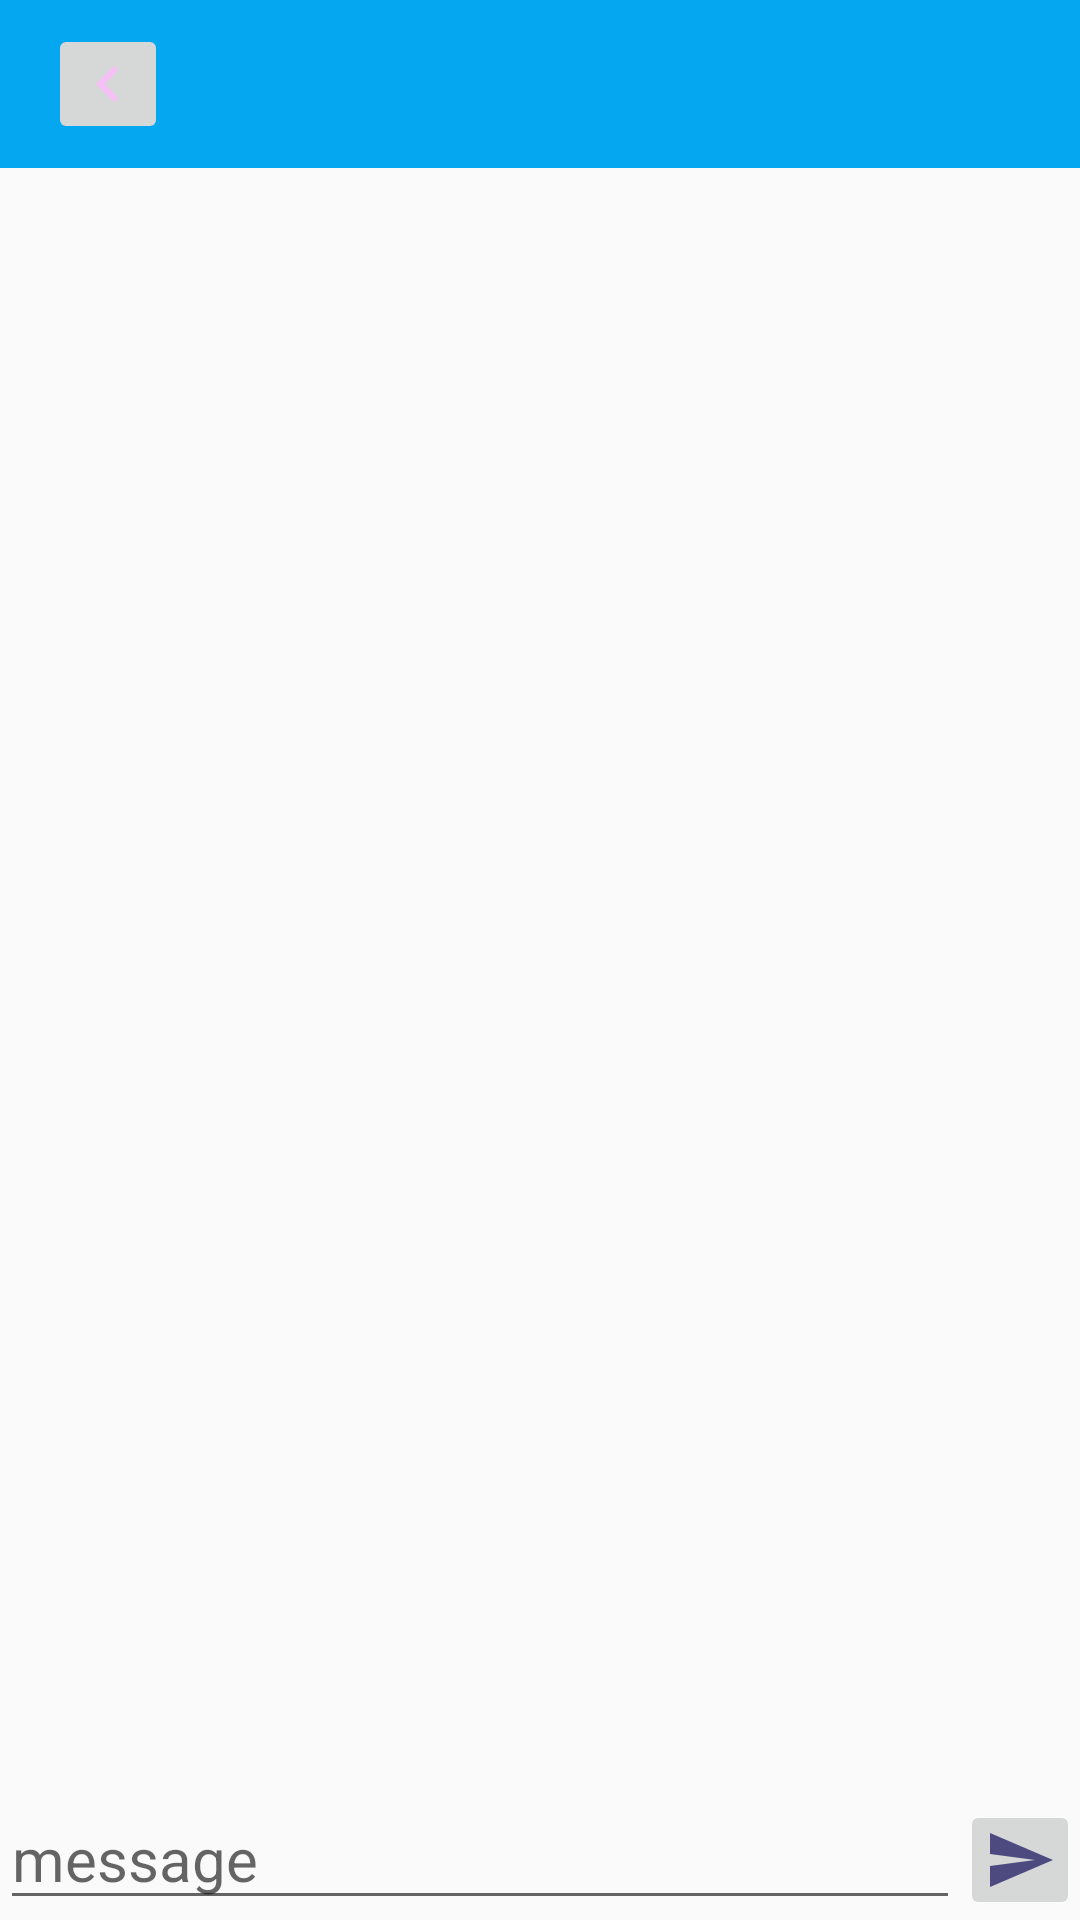

Named icons in this screenshot (1080 × 1920) and their bounding boxes, (x1, y1, x2, y2):
chevron left: (60, 42, 156, 126)
send: (972, 1818, 1068, 1902)
